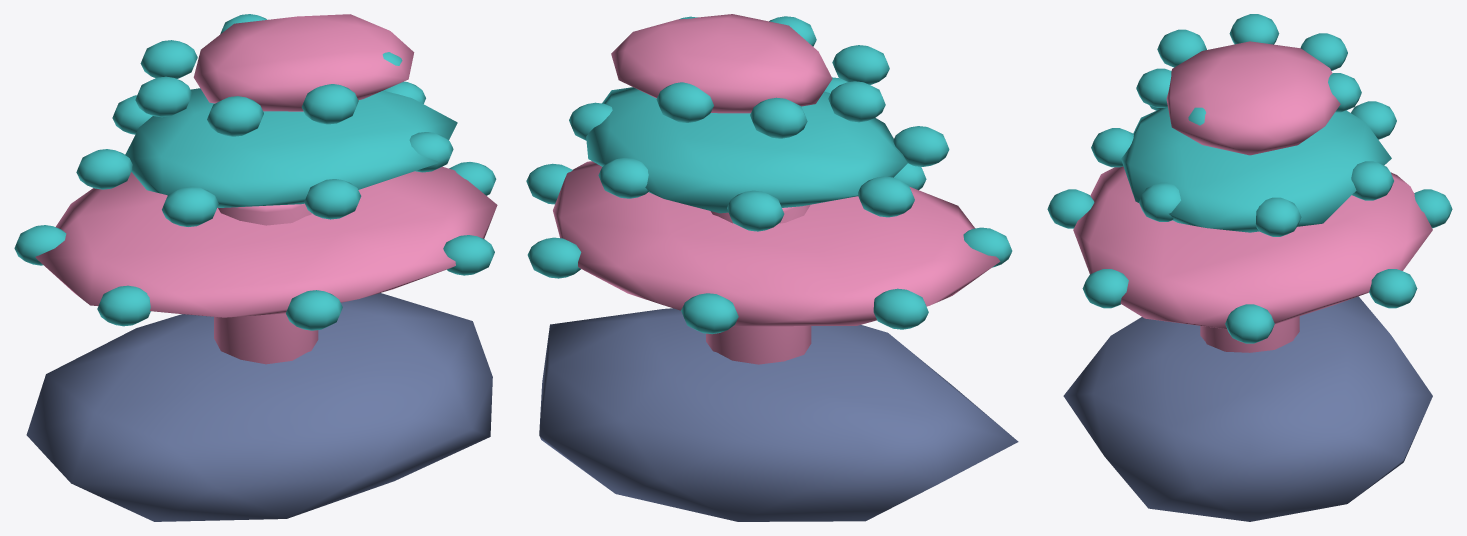
File: r087_development_undersea_additions_undersea_01.glb
The picture shows the model from 3 angles, left to right: view 1: azimuth 30°, elevation 25°; view 2: azimuth 150°, elevation 25°; view 3: azimuth 270°, elevation 25°; orthographic projection. The views are drawn at different scales.
Parts seen in each view (by area): view 1: r087_development_undersea_additions_undersea_01.001; view 2: r087_development_undersea_additions_undersea_01.001; view 3: r087_development_undersea_additions_undersea_01.001.
Boxes of the visible parts, box(x1,y1,x2,y2) form: r087_development_undersea_additions_undersea_01.001: box(14, 14, 497, 521); r087_development_undersea_additions_undersea_01.001: box(526, 14, 1018, 521); r087_development_undersea_additions_undersea_01.001: box(1047, 14, 1452, 521).
Size of the model in its own units: 2.81 by 2.54 by 2.28.
